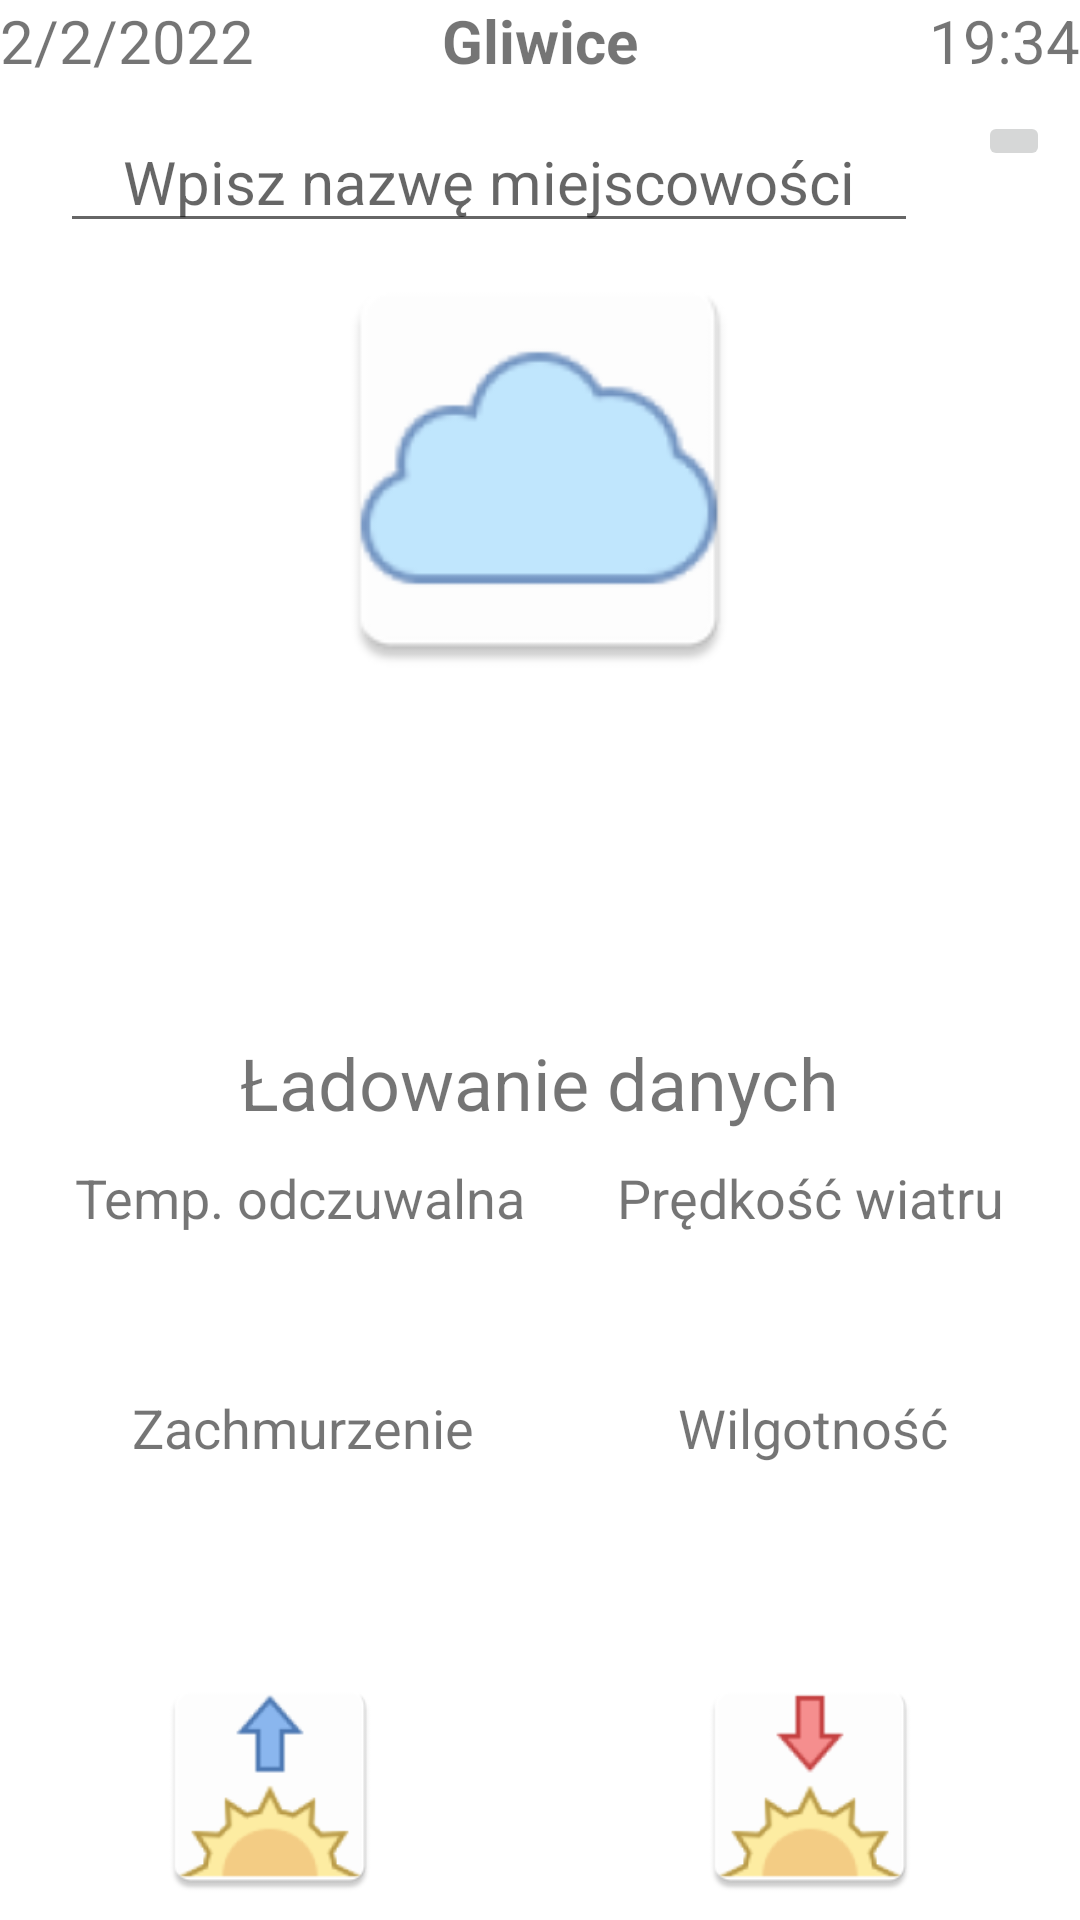

Icons on this 1080px x 1920px Android screen, each with its box as (x1=x1, y1=y1, x2=x2, y2=y2):
cloud: (x1=360, y1=308, x2=720, y2=657)
sunrise: (x1=175, y1=1695, x2=366, y2=1887)
sunset: (x1=715, y1=1695, x2=906, y2=1887)
